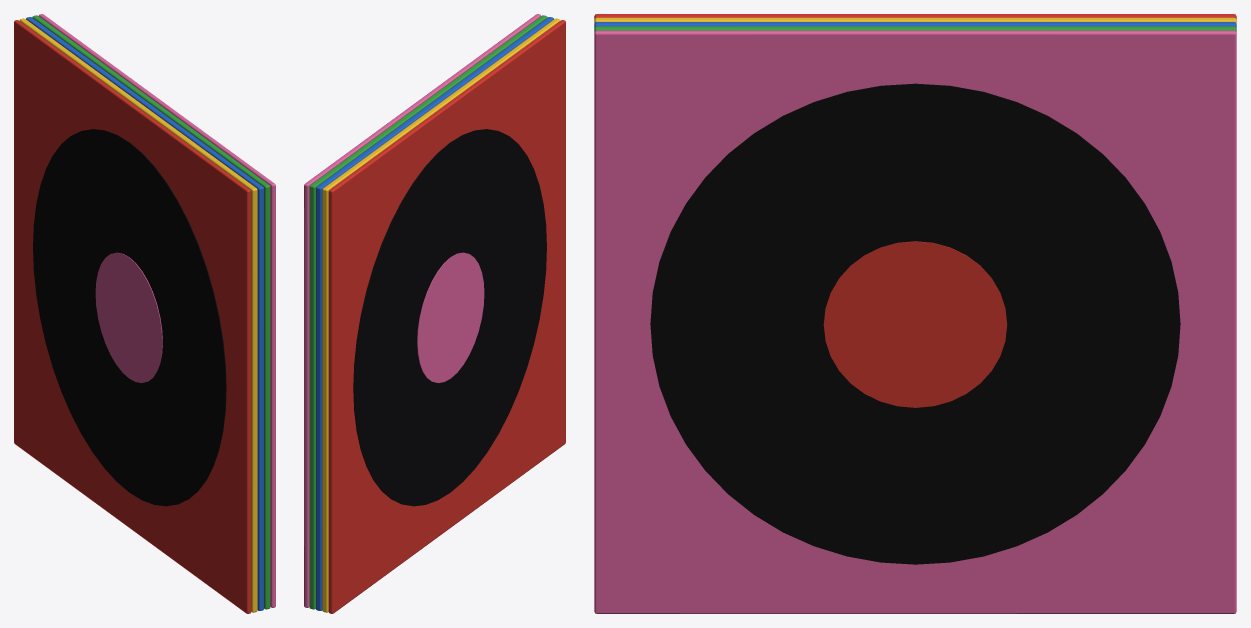
The model's file is vinilos-5-de-pie.glb.
3 views of the same model, side by side, from view 1: azimuth 30°, elevation 25°; view 2: azimuth 150°, elevation 25°; view 3: azimuth 270°, elevation 25° (orthographic). The views are drawn at different scales.
Parts seen in each view (by area): view 1: vinilos-5-de-pie; view 2: vinilos-5-de-pie; view 3: vinilos-5-de-pie.
Boxes of the visible parts, x1,y1,x2,y2 form: vinilos-5-de-pie: (14, 14, 275, 613); vinilos-5-de-pie: (304, 14, 565, 613); vinilos-5-de-pie: (594, 14, 1236, 613).
Bounding box in the file's own units: 0.025 × 0.315 × 0.315.
